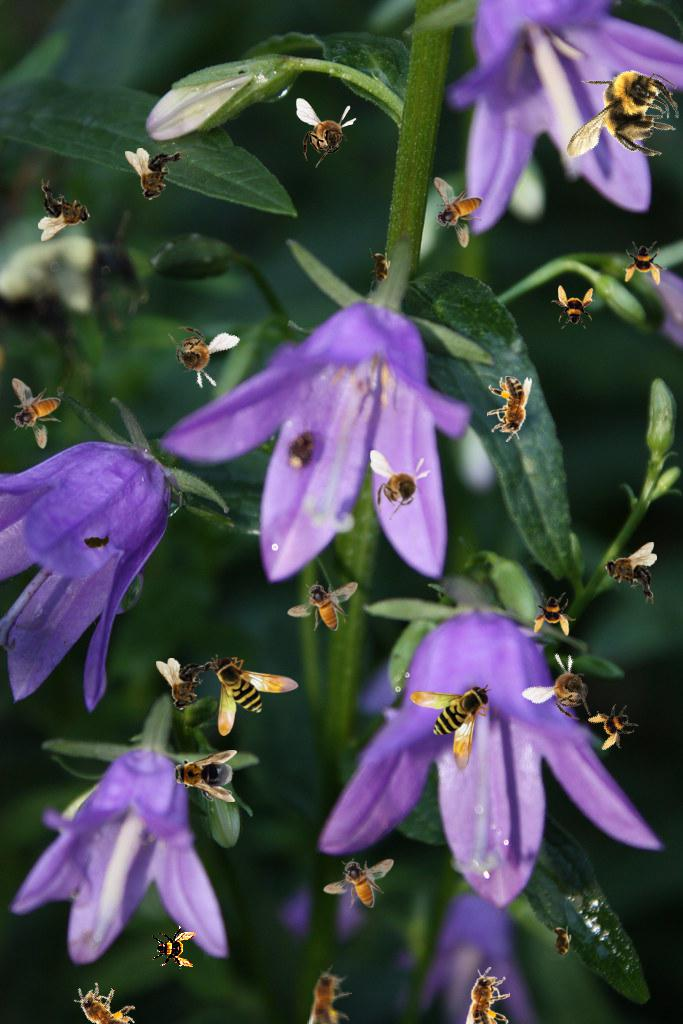Bee: (546, 43, 683, 196), (520, 643, 613, 733), (211, 654, 299, 736), (410, 684, 492, 772), (154, 314, 241, 396), (370, 450, 431, 520), (296, 98, 357, 168), (64, 972, 144, 1024), (583, 696, 645, 758), (11, 378, 61, 449), (433, 177, 483, 248), (287, 581, 358, 631), (323, 858, 394, 908), (169, 750, 237, 802), (125, 148, 187, 201), (604, 542, 657, 604), (38, 179, 91, 241), (156, 658, 218, 711), (487, 376, 532, 442), (307, 965, 352, 1024), (465, 967, 510, 1024), (623, 241, 667, 285), (152, 925, 196, 969), (532, 592, 576, 636), (551, 285, 595, 329), (550, 922, 572, 962), (369, 248, 391, 288), (76, 530, 116, 552)
